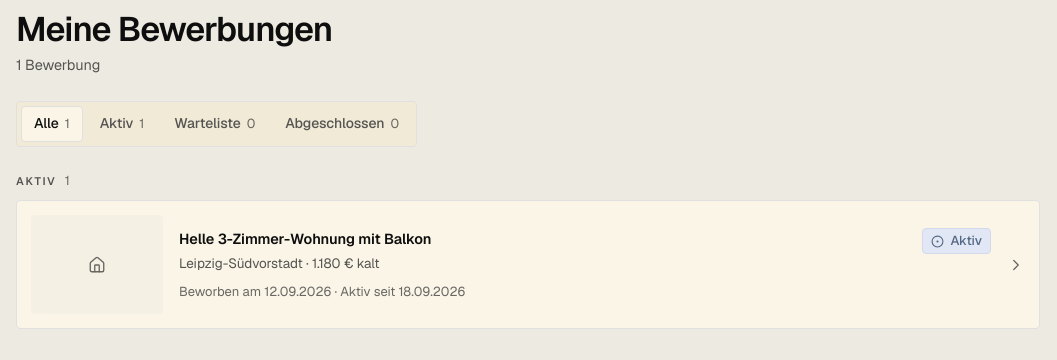
Test case: ApplicationsOverview › keeps the filter bar and retry when a grouped fetch fails
Click the button "Warteliste 0".
click(215, 124)  # box [161,106,268,142]
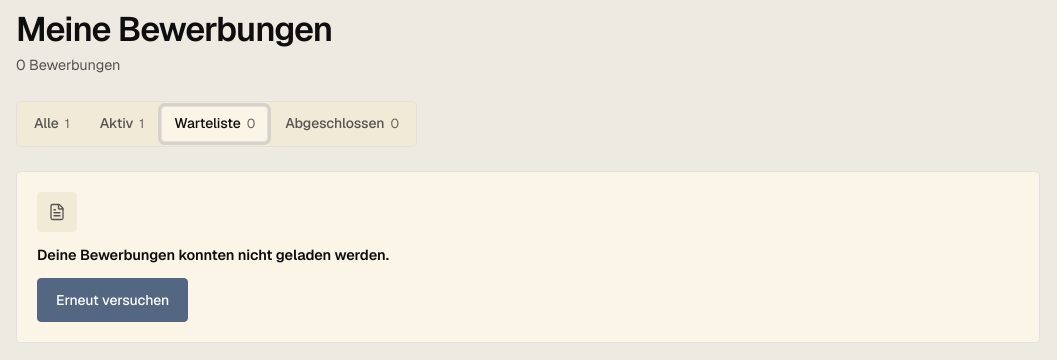
Expected: the button "Alle 1" is shown, [21,106,83,142]
Result: the button "Erneut versuchen" is shown at [37,278,188,322]
